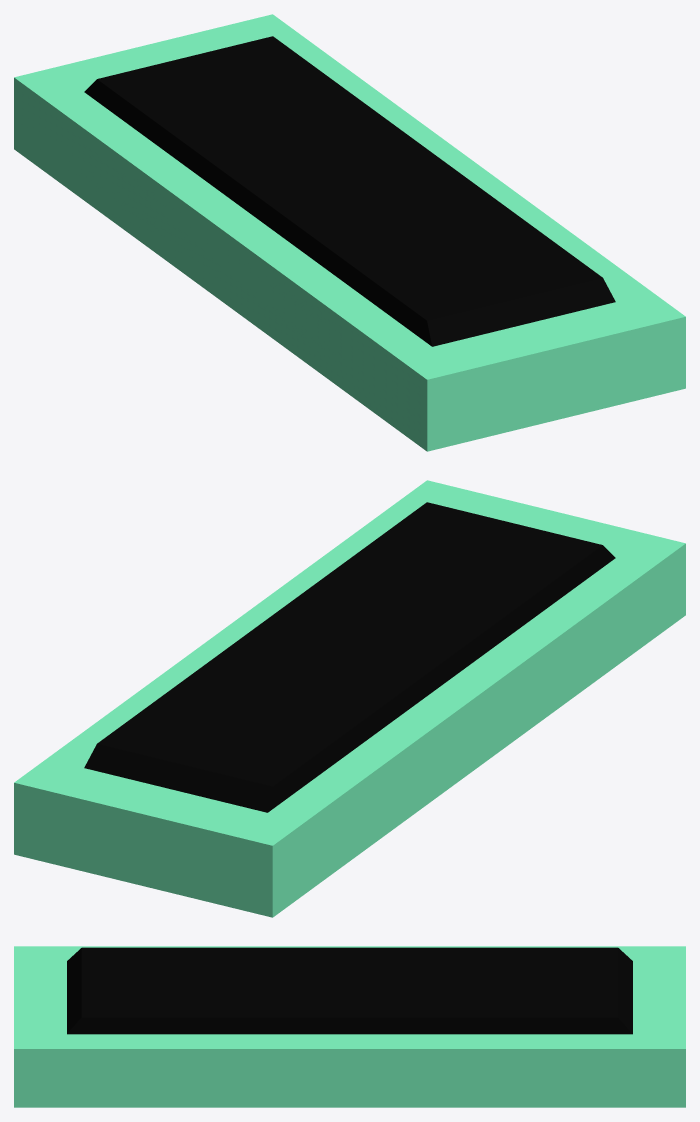
The model's file is Com_keyboard.obj.
3 renders of one model, top to bottom at view 1: azimuth 30°, elevation 25°; view 2: azimuth 150°, elevation 25°; view 3: azimuth 270°, elevation 25°, orthographic. The views are drawn at different scales.
Parts seen in each view (by area): view 1: Com_keyboard_Cube.050; view 2: Com_keyboard_Cube.050; view 3: Com_keyboard_Cube.050.
Part boxes in pixels (x1,y1,x2,y2): Com_keyboard_Cube.050: [14, 14, 685, 451]; Com_keyboard_Cube.050: [14, 480, 685, 917]; Com_keyboard_Cube.050: [14, 946, 685, 1107].
Size of the model in its own units: 0.7232 by 0.2417 by 2.
